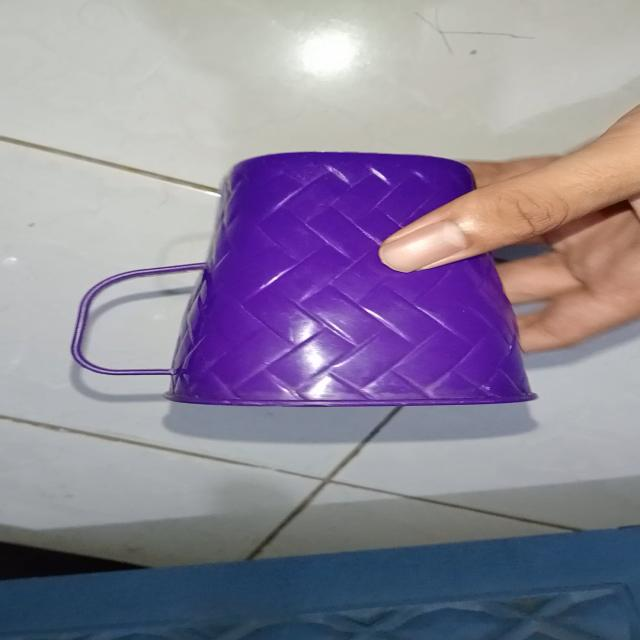gelas bekas: (70, 150, 540, 410)
